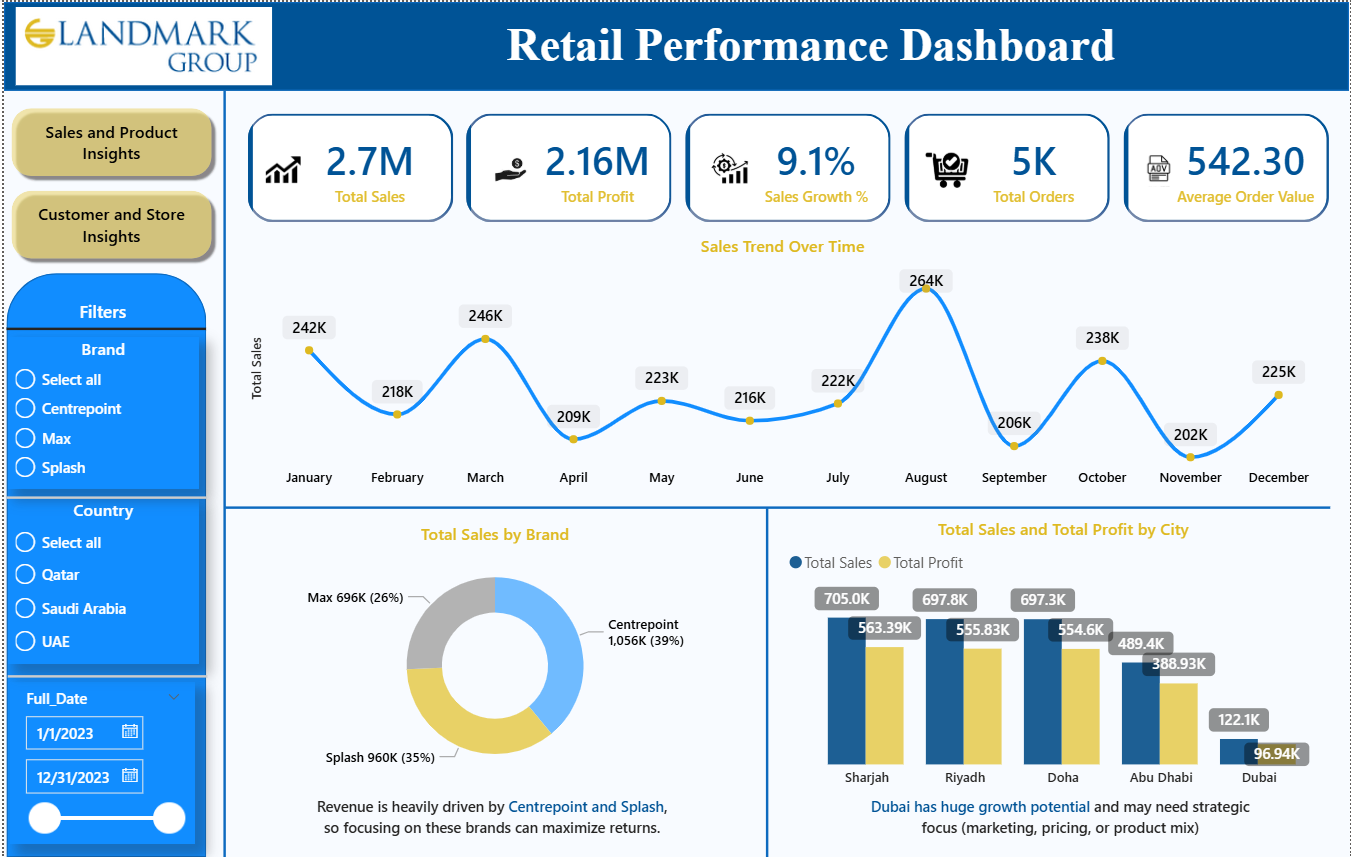

The page's visual inventory and layout, read from the dashboard file:
{"tool":"powerbi","page":{"name":"Executive Overview","canvas":[1100,700],"ordinal":0},"visuals":[{"type":"shape","box":[0,0,1099.9,72.6],"z":0},{"type":"image","box":[0,4.1,229,64.4],"z":1000},{"type":"textbox","box":[396.6,8.2,526.4,60.3],"z":2000},{"type":"cardVisual","fields":{"Data":["Measures Executive Overview.Total Sale","Measures Executive Overview.Total Profit","Measures Executive Overview.Sales Growth %","Measures Executive Overview.Total Orders","Measures Executive Overview.Average Order Value (AOV)"]},"box":[189.1,80.8,906.7,109.4],"z":3000},{"type":"lineChart","title":"Sales Trend Over Time","fields":{"Y":["Measures Executive Overview.Total Sales"],"Category":["dim_date.Month_Name","dim_date.Full_Date.Variation.Date Hierarchy.Day"]},"box":[197.3,190.1,879.1,215.7],"z":4000},{"type":"donutChart","fields":{"Category":["dim_product.Brand"],"Y":["Measures Executive Overview.Total Sales"]},"box":[229,425.2,345.5,217.7],"z":5000},{"type":"clusteredColumnChart","fields":{"Category":["dim_store.City"],"Y":["Measures Executive Overview.Total Sales","Measures Executive Overview.Total Profit"]},"box":[636.8,421.1,458.9,230.5],"z":6000},{"type":"textbox","box":[248.4,643,301.5,53.2],"z":7000},{"type":"shape","box":[587.8,414,72.6,286.2],"z":8000},{"type":"shape","box":[180.9,390.5,903.6,46],"z":9000},{"type":"shape","box":[151.3,72.6,58.3,627.6],"z":10000},{"type":"textbox","box":[695.1,643,337.3,46],"z":11000},{"type":"shape","box":[2,221.8,163.6,478.4],"z":12000},{"type":"textbox","box":[51.1,238.2,59.3,35.8],"z":13000},{"type":"listSlicer","fields":{"Values":["dim_product.Brand"]},"box":[3.1,273.9,156.4,123.7],"z":14000},{"type":"shape","box":[2,248.4,163.6,37.8],"z":15000},{"type":"listSlicer","fields":{"Values":["dim_store.Country"]},"box":[3.1,405.8,156.4,134.9],"z":16000},{"type":"slicer","fields":{"Values":["dim_date.Full_Date"]},"box":[5.1,556.1,151.3,132.9],"z":17000},{"type":"shape","box":[2,386.4,163.6,37.8],"z":18000},{"type":"shape","box":[3.1,532.6,163.6,37.8],"z":19000},{"type":"actionButton","box":[0,80.8,175.8,67.7],"z":20000},{"type":"actionButton","box":[0,148.5,175.8,67.7],"z":21000}]}

Visuals, with their boxes in screenshot pixels (x1, y1, x2, y2), scaled from the page's 1100x700 canvas onto the 1351x857 screenshot:
shape: region(0, 0, 1350, 89)
image: region(0, 5, 281, 84)
textbox: region(487, 10, 1134, 84)
cardVisual - Measures Executive Overview.Total Sale x Measures Executive Overview.Total Profit: region(232, 99, 1346, 233)
"Sales Trend Over Time" lineChart: region(242, 233, 1322, 497)
donutChart - dim_product.Brand x Measures Executive Overview.Total Sales: region(281, 521, 706, 787)
clusteredColumnChart - dim_store.City x Measures Executive Overview.Total Sales: region(782, 516, 1346, 798)
textbox: region(305, 787, 675, 852)
shape: region(722, 507, 811, 856)
shape: region(222, 478, 1332, 534)
shape: region(186, 89, 257, 856)
textbox: region(854, 787, 1268, 844)
shape: region(2, 272, 203, 856)
textbox: region(63, 292, 136, 335)
listSlicer - dim_product.Brand: region(4, 335, 196, 487)
shape: region(2, 304, 203, 350)
listSlicer - dim_store.Country: region(4, 497, 196, 662)
slicer - dim_date.Full_Date: region(6, 681, 192, 844)
shape: region(2, 473, 203, 519)
shape: region(4, 652, 205, 698)
actionButton: region(0, 99, 216, 182)
actionButton: region(0, 182, 216, 265)
